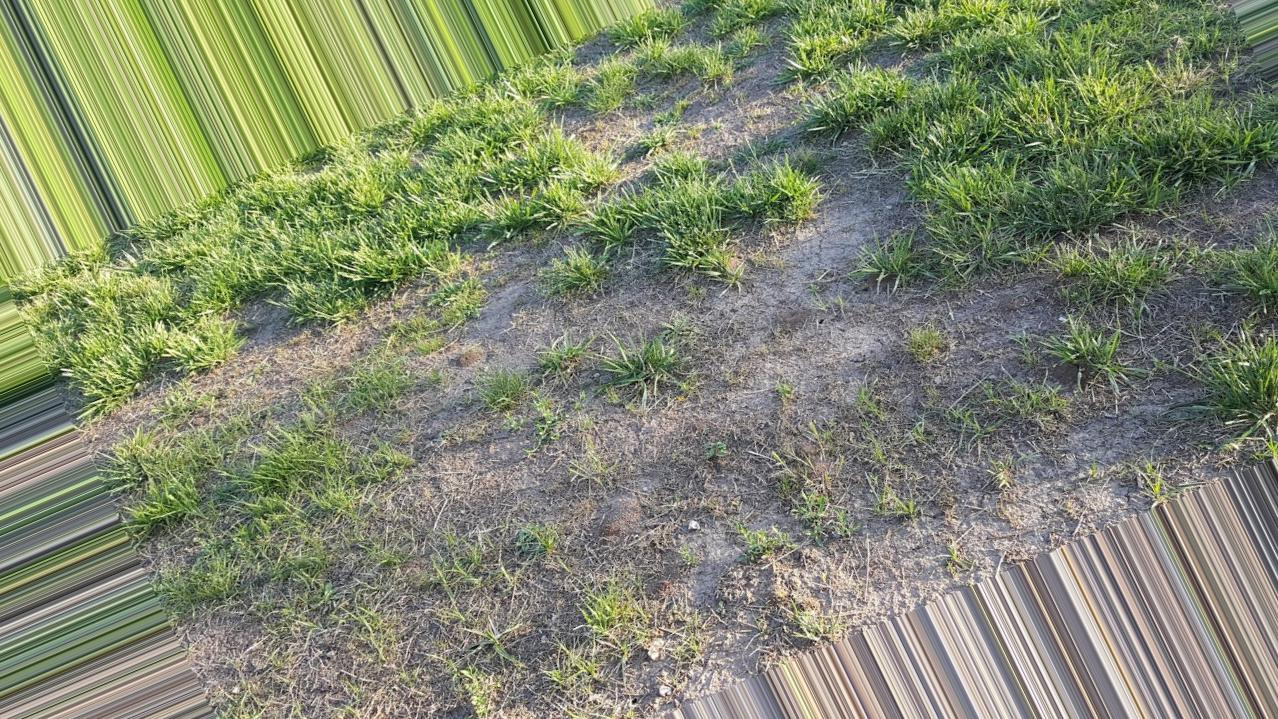patch: (710, 202, 915, 423), (707, 447, 917, 637), (449, 414, 675, 515), (142, 372, 466, 422), (512, 249, 637, 363), (629, 76, 797, 139)
